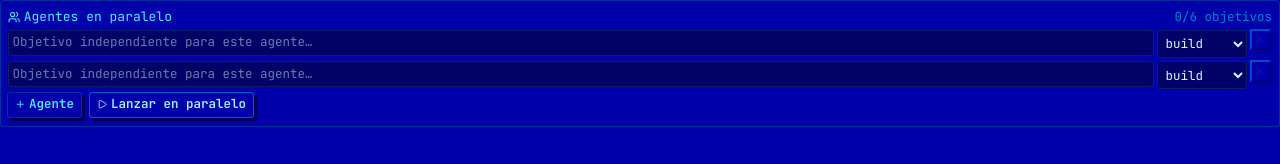
Test: ParallelLaunch › manda el modo elegido en cada fila
Type "leer" into the text box with test id "parallel-goal-0". click: (581, 43)
box: [8,30,1154,56]
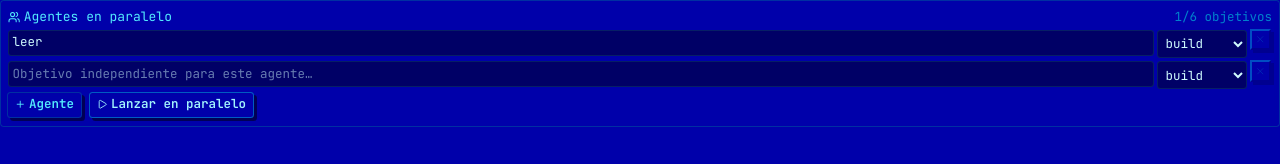
Type "escribir" into the text box with test id "parallel-goal-1". click: (581, 74)
box: [8,61,1154,87]
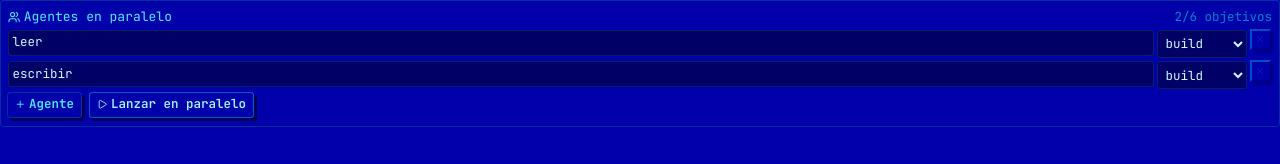
Select "plan" in the dropdown with test id "parallel-mode-1". click: (1202, 75)
box: [1157,61,1247,89]
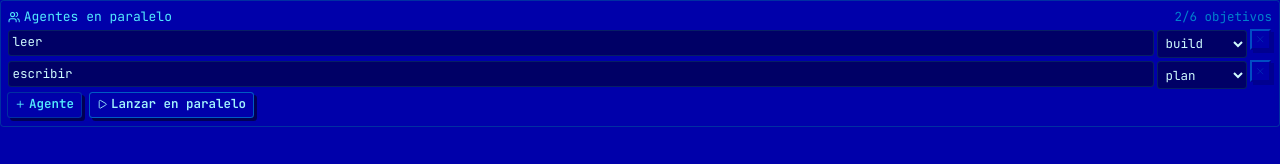
Click the button with test id "parallel-run". click: (172, 105)
box: [89,92,254,118]
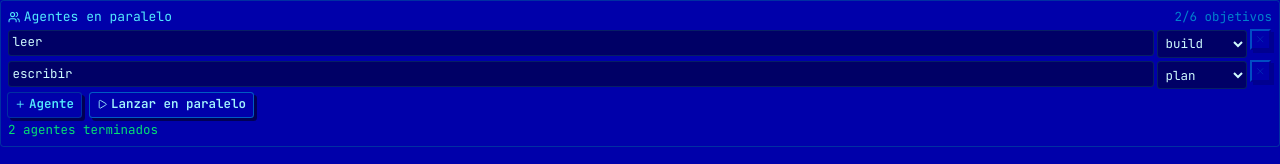
Now the text "2 agentes terminados" is shown, box [8,121,158,138]
